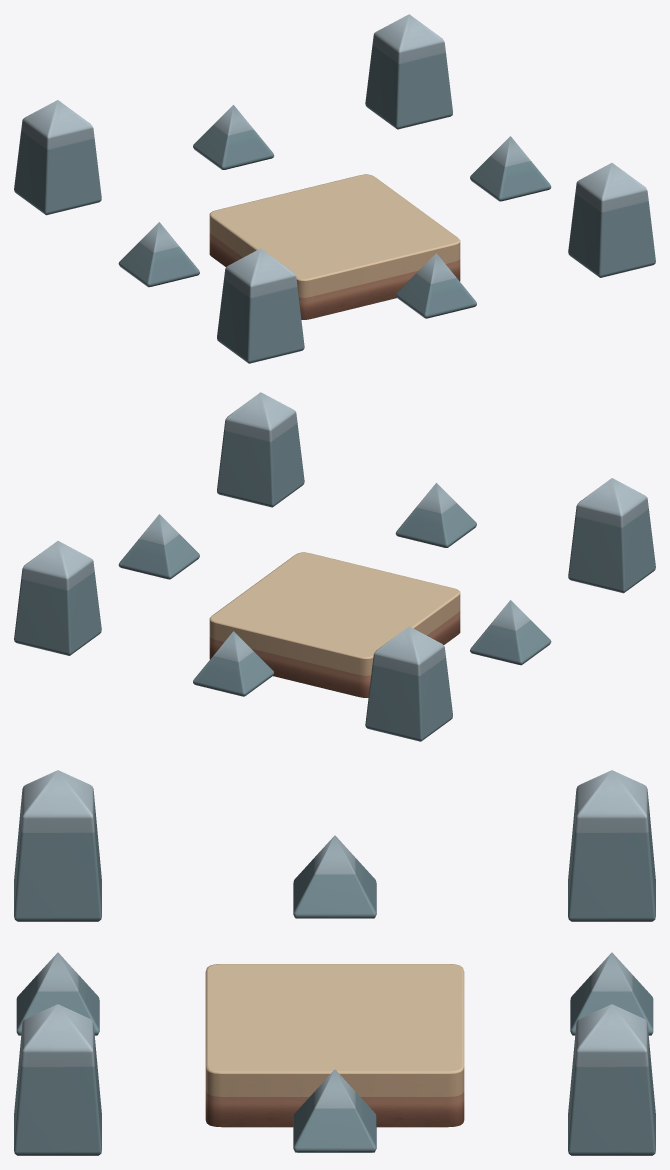
The model's file is Props.fbx.
3 views of the same model, one above another, from view 1: azimuth 30°, elevation 25°; view 2: azimuth 150°, elevation 25°; view 3: azimuth 270°, elevation 25° (orthographic). The views are drawn at different scales.
Visible parts, largest first — view 1: 棱锥 (×4), Box02, 三角锥 (×4); view 2: 棱锥 (×4), Box02, 三角锥 (×4); view 3: 棱锥 (×4), Box02, 三角锥 (×4).
Boxes of the visible parts, left/top/right/bottom form: 棱锥 (×4): left=14, top=14, right=655, bottom=363; Box02: left=209, top=174, right=460, bottom=319; 三角锥 (×4): left=118, top=105, right=551, bottom=318; 棱锥 (×4): left=14, top=392, right=655, bottom=741; Box02: left=209, top=552, right=460, bottom=697; 三角锥 (×4): left=118, top=483, right=551, bottom=696; 棱锥 (×4): left=14, top=770, right=655, bottom=1155; Box02: left=205, top=964, right=464, bottom=1127; 三角锥 (×4): left=16, top=835, right=653, bottom=1152.
Bounding box in the file's own units: 27.89 × 8.87 × 27.81.
Materials: 3 (3 with a texture image).
